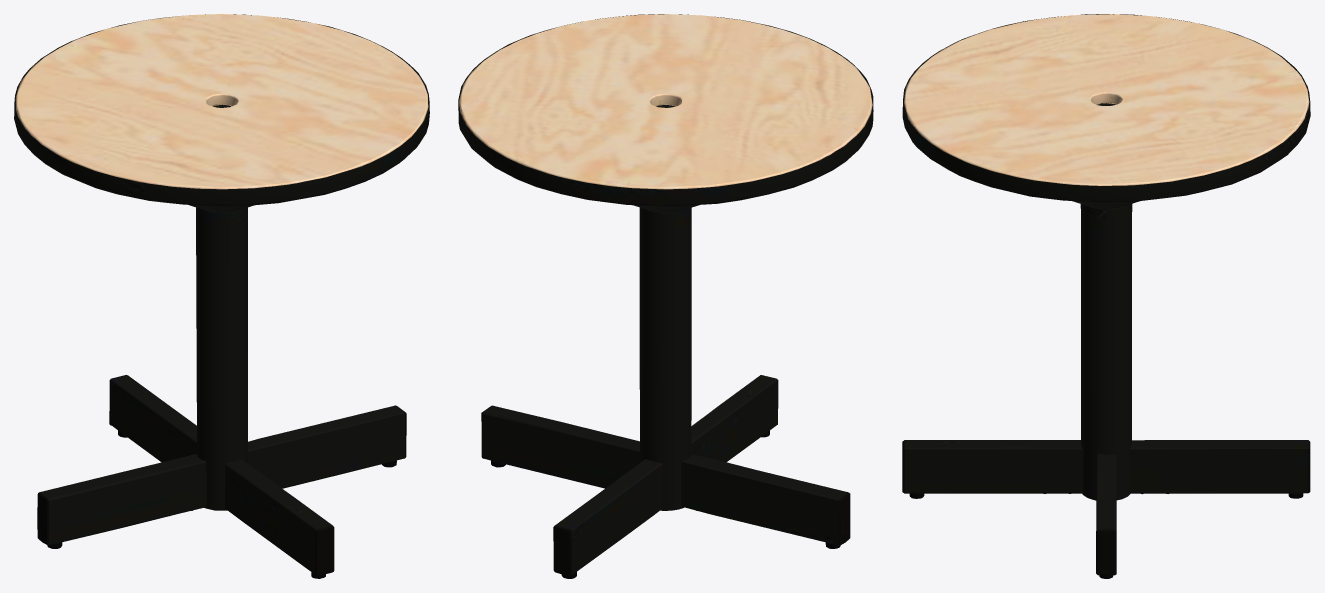
File: table.glb
The picture shows the model from 3 angles, left to right: view 1: azimuth 30°, elevation 25°; view 2: azimuth 150°, elevation 25°; view 3: azimuth 270°, elevation 25°; orthographic projection.
Visible parts, largest first — view 1: ASY_ART_00589090_S01_NV01; view 2: ASY_ART_00589090_S01_NV01; view 3: ASY_ART_00589090_S01_NV01.
Part boxes in pixels (<box>): ASY_ART_00589090_S01_NV01: <box>14,14,429,578</box>; ASY_ART_00589090_S01_NV01: <box>458,14,873,578</box>; ASY_ART_00589090_S01_NV01: <box>902,14,1310,578</box>.
Bounding box in the file's own units: 0.4012 × 0.4302 × 0.401.
1 material, 1 textured.
